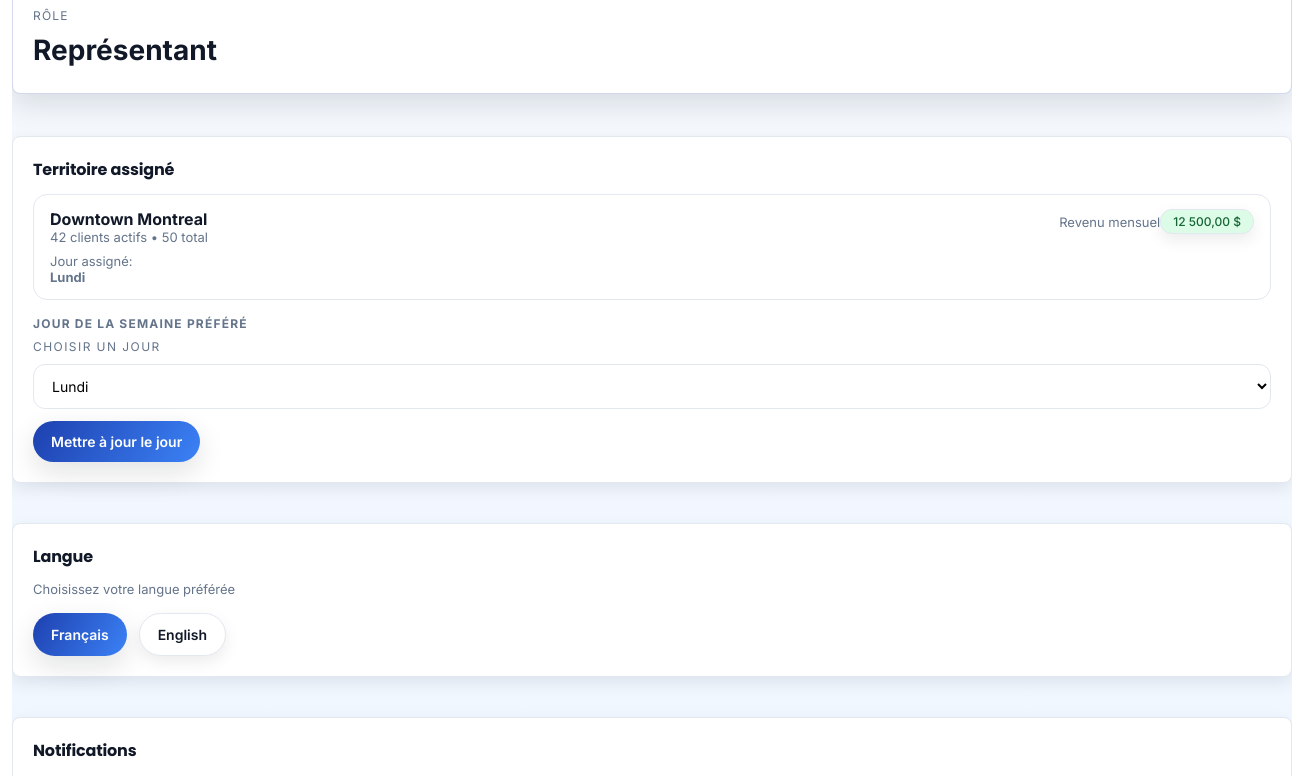
Phase 1: Sales Settings Page › should allow updating day of week
(page scrolled)
Expected: the text "Downtown Montreal" is shown, [50,209,207,229]
# Select a day
Select "Mardi" in the dropdown at coordinates (652, 386), box [33,364,1271,409]
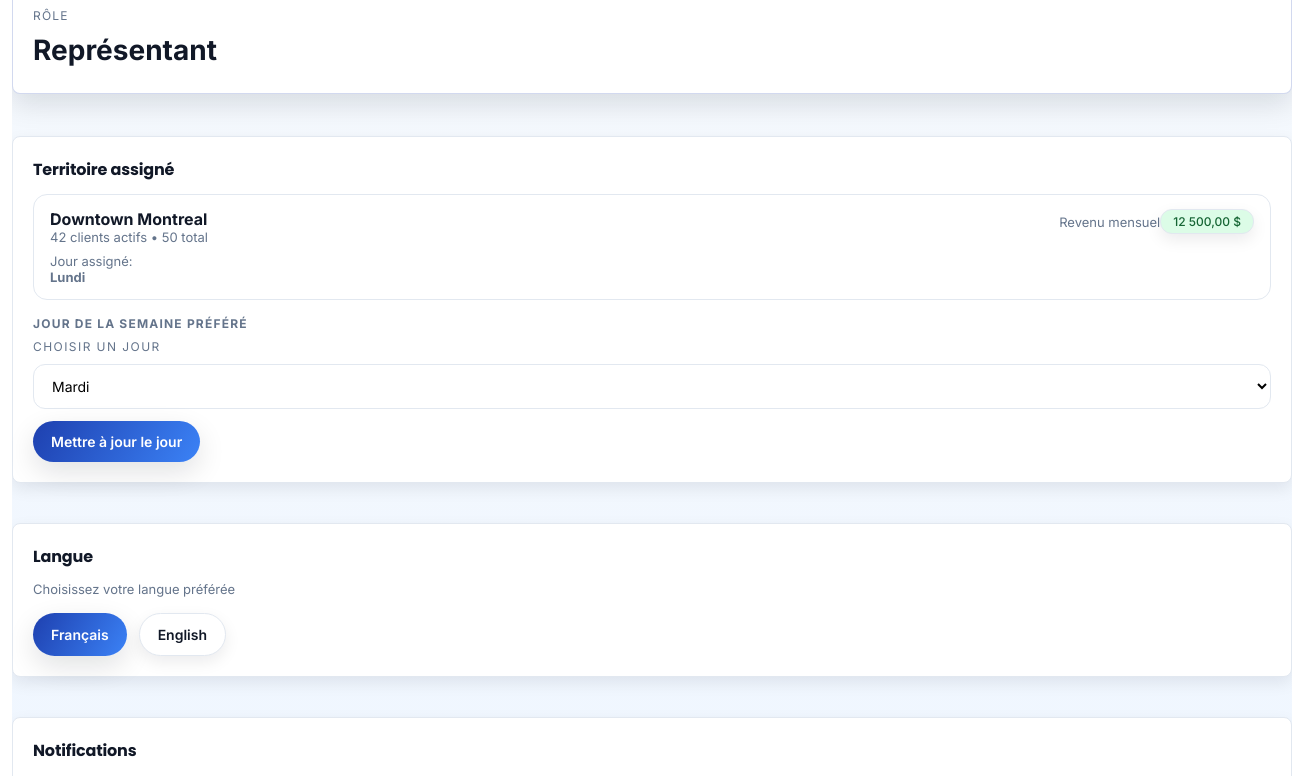
# Click update button
Click the button "Mettre à jour le jour" at coordinates (117, 442), box [33,421,200,462]
(page scrolled)
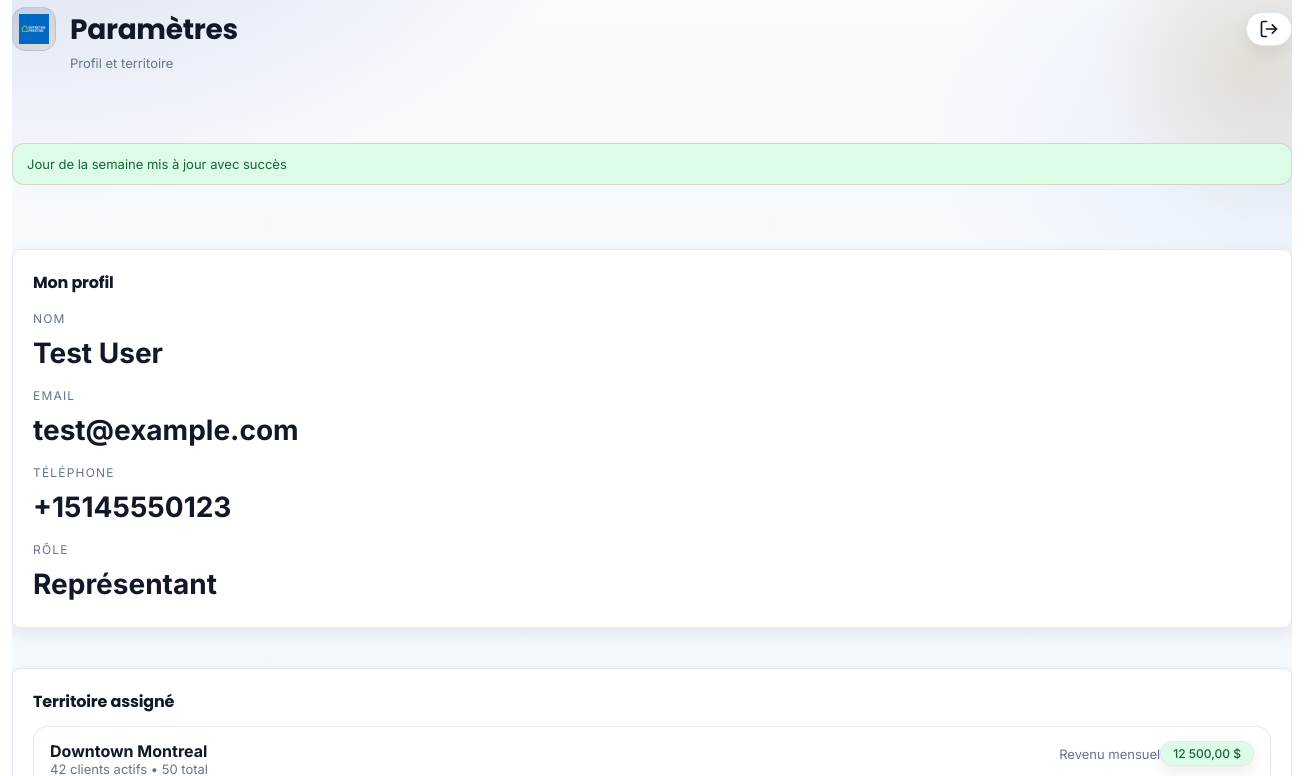
Now the text "Jour de la semaine mis à jour avec succès" is shown, box [12,143,1292,185]
